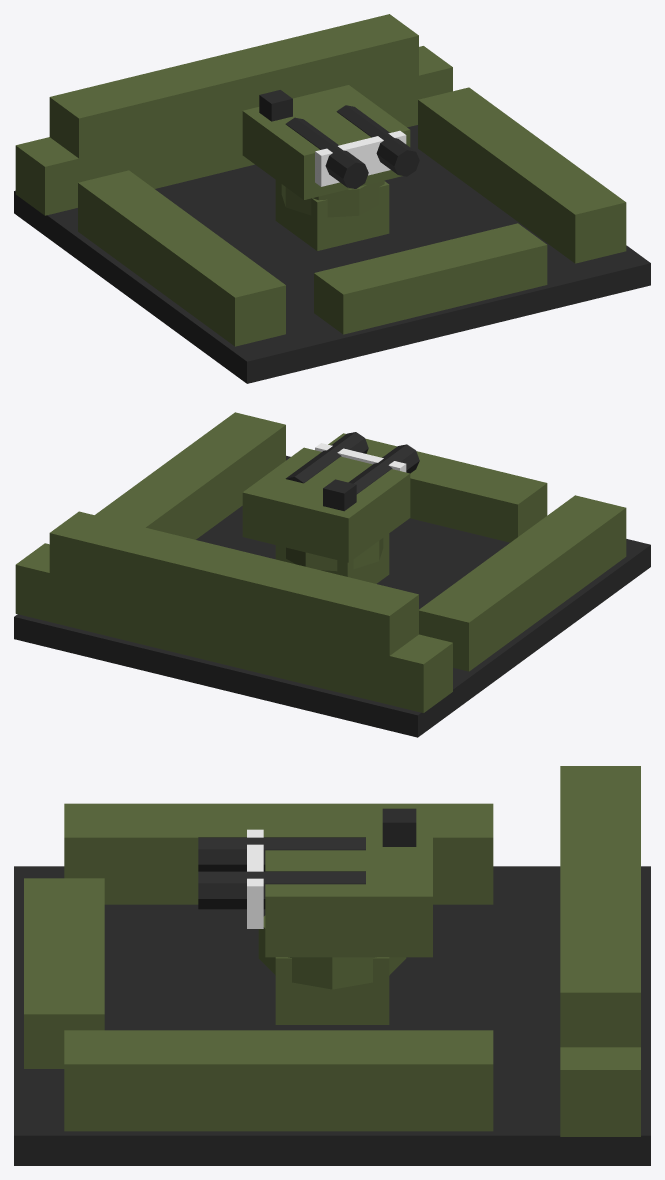
File: ua-defense.glb
3 views of the same model, one above another, from view 1: azimuth 30°, elevation 25°; view 2: azimuth 150°, elevation 25°; view 3: azimuth 270°, elevation 25° (orthographic). The views are drawn at different scales.
Visible parts, largest first — view 1: ua-defense, turret; view 2: ua-defense, turret; view 3: ua-defense, turret.
Part boxes in pixels (bbox=[...]): ua-defense: bbox=[14, 14, 650, 383]; turret: bbox=[242, 85, 419, 217]; ua-defense: bbox=[14, 412, 650, 737]; turret: bbox=[242, 432, 419, 571]; ua-defense: bbox=[14, 766, 650, 1165]; turret: bbox=[198, 808, 432, 989].
Bounding box in the file's own units: 1.92 × 0.64 × 1.9.
